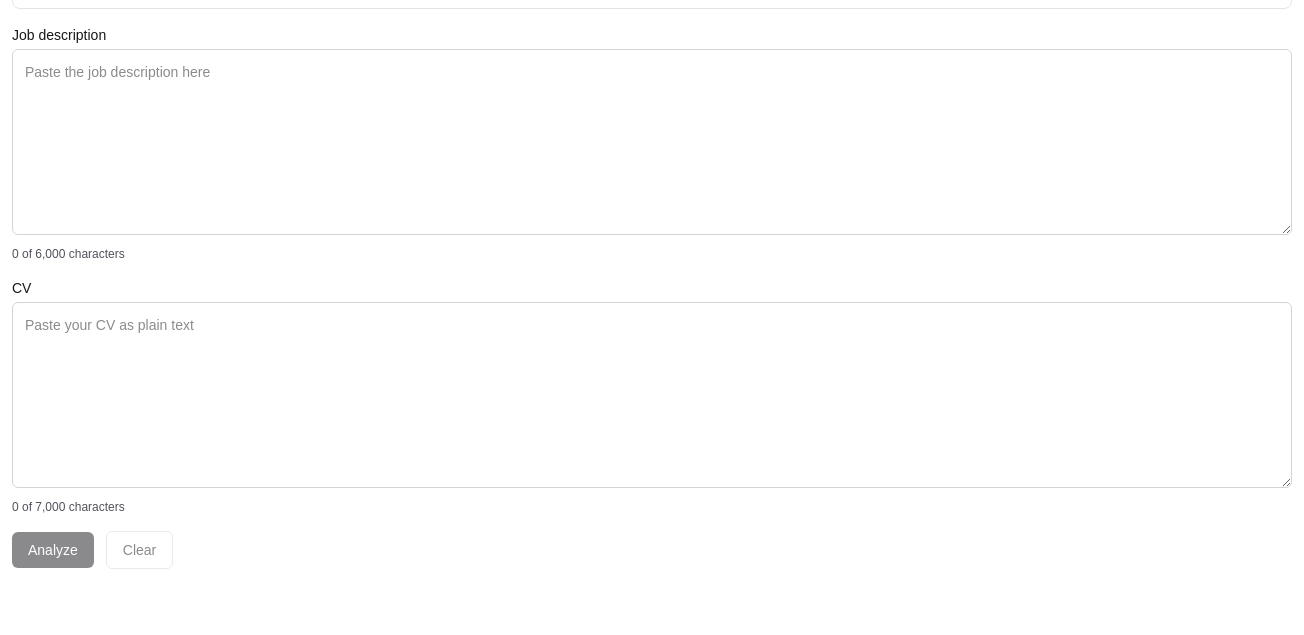
it: KeywordGapAnalyzer: a successful analysis › says so when none of the keywords were found
Click the text box labelled "Job description" at (652, 142), box [12, 49, 1292, 235]
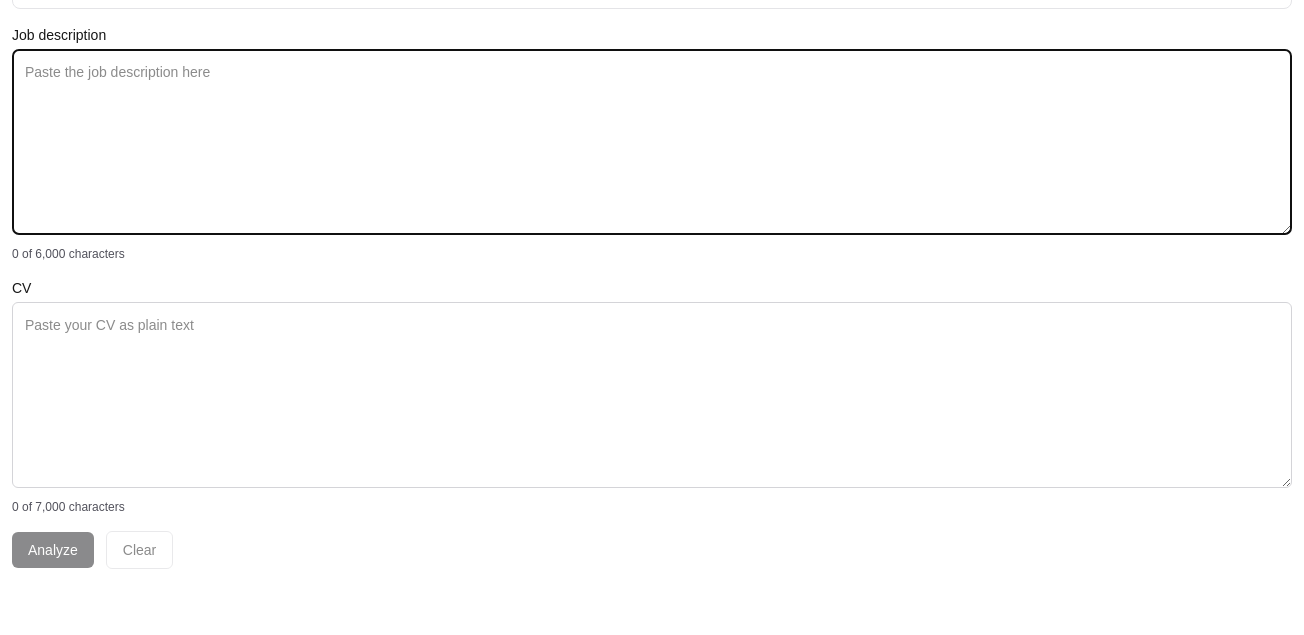
Type keys "Acme Example Ltd is hiring a Frontend Engineer. Required: React, TypeScript, REST APIs, Git and GraphQL. Preferred: Docker and Kubernetes."
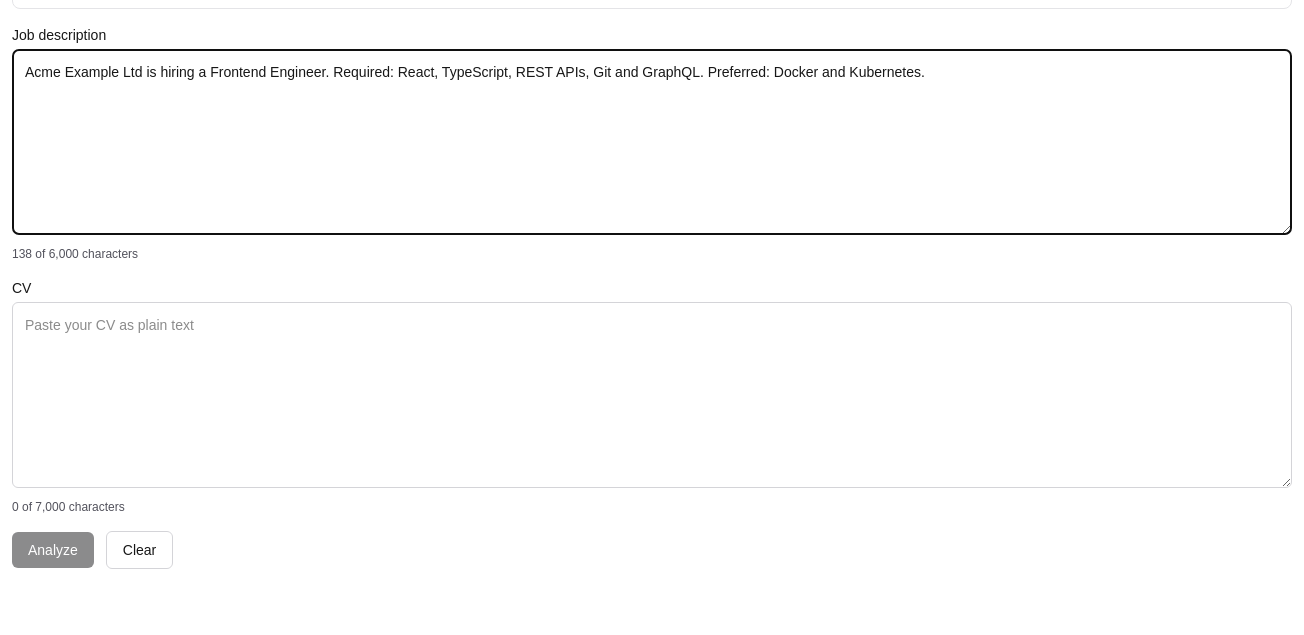
Click the text box labelled "CV" at (652, 395), box [12, 302, 1292, 488]
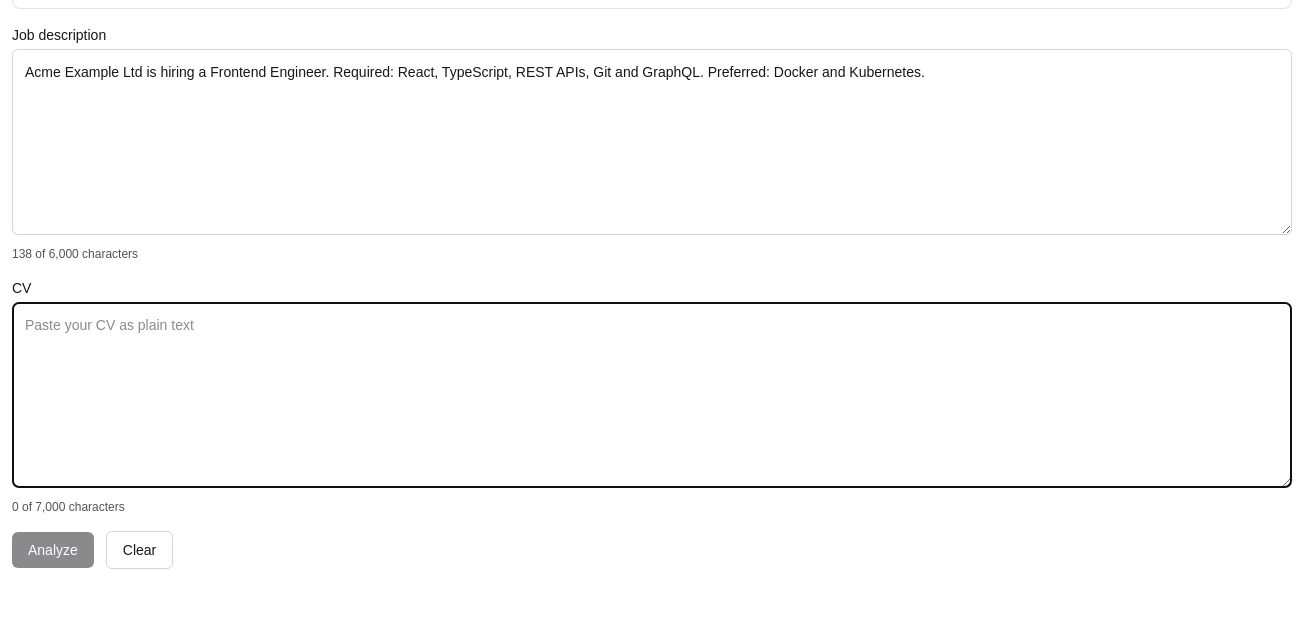
Type keys "Jane Example. Frontend developer. Built single-page apps with React and TypeScript, consumed REST APIs and used Git every day."
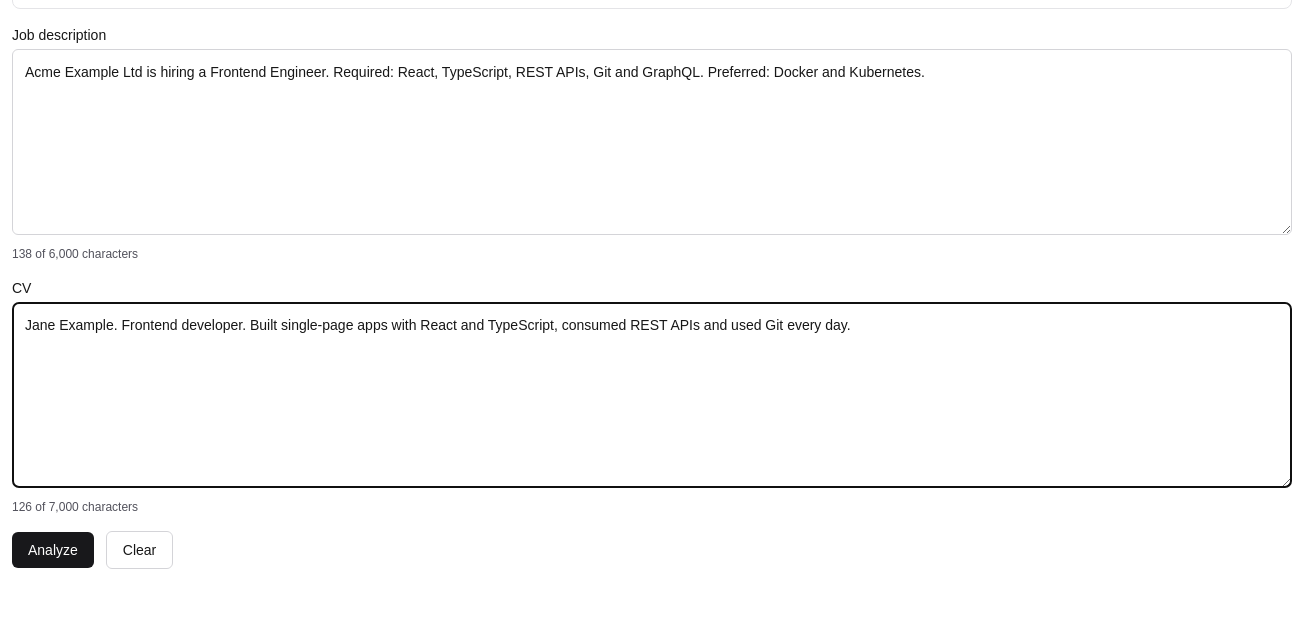
Click the button "Analyze" at (53, 550), box [12, 532, 94, 568]
(page scrolled)
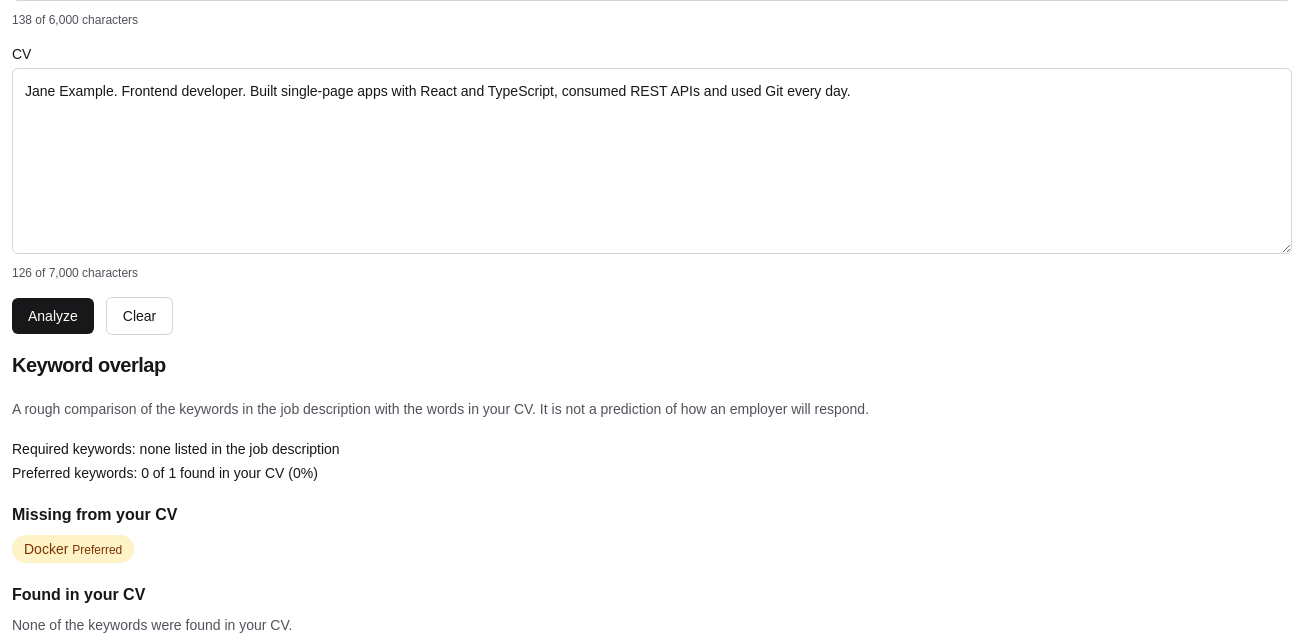
Result: the heading "Keyword overlap" is shown at [12, 354, 166, 376]
Result: the text "None of the keywords were found in your CV." is shown at [12, 617, 292, 633]
Result: the list item "Preferred keywords: 0 of 1 found in your CV (0%)" is shown at [12, 465, 318, 481]
